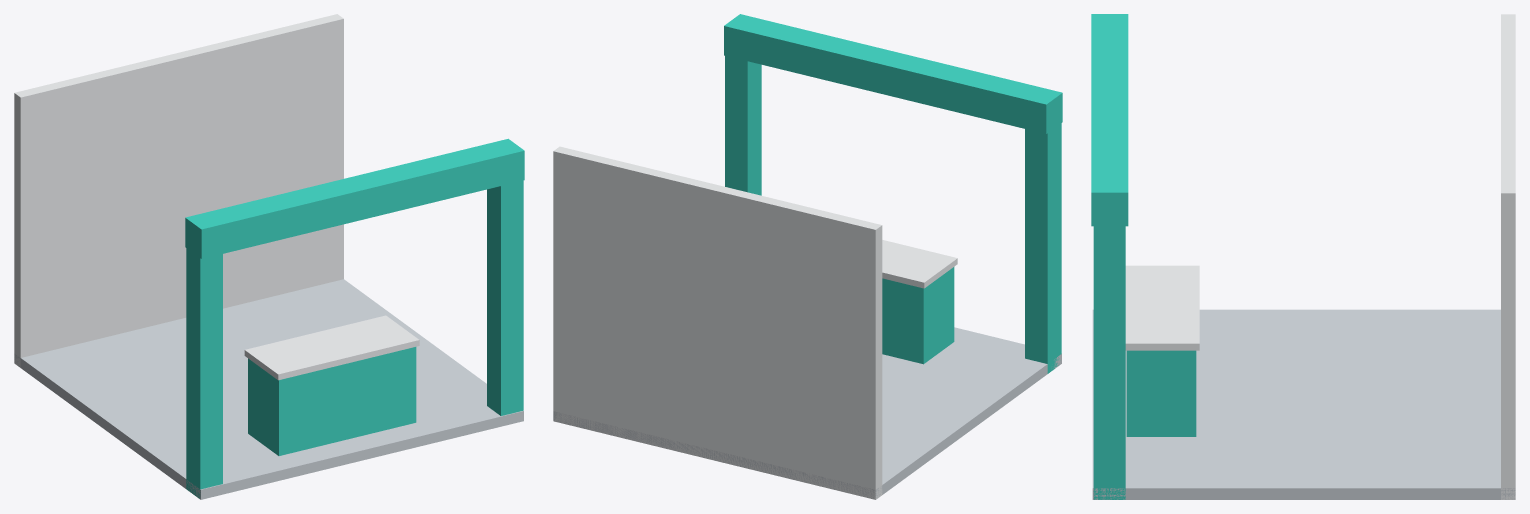
3 renders of one model, left to right at view 1: azimuth 30°, elevation 25°; view 2: azimuth 150°, elevation 25°; view 3: azimuth 270°, elevation 25°, orthographic. The views are drawn at different scales.
Visible parts, largest first — view 1: Exhibition Booth Concept; view 2: Exhibition Booth Concept; view 3: Exhibition Booth Concept.
Boxes of the visible parts, box(x1,y1,x2,y2) form: Exhibition Booth Concept: box(14, 14, 524, 499); Exhibition Booth Concept: box(553, 14, 1062, 499); Exhibition Booth Concept: box(1091, 14, 1515, 499).
Size of the model in its own units: 4 by 3.2 by 4.02.
